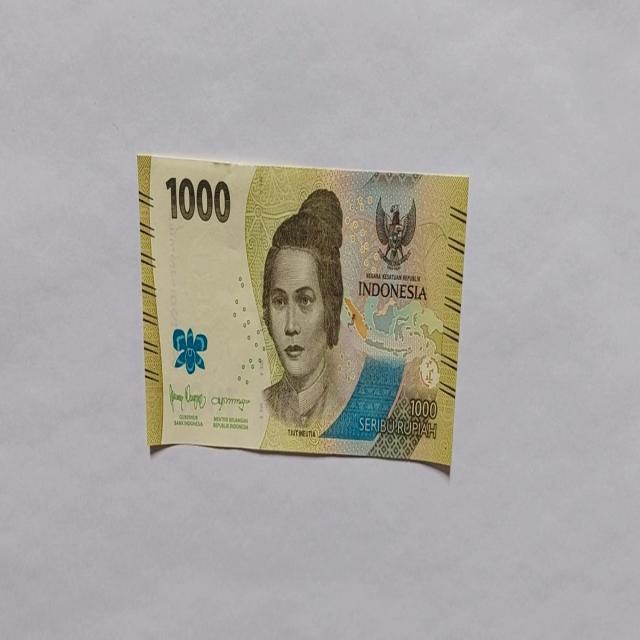seribu rupiah kertas: (136, 152, 468, 471)
